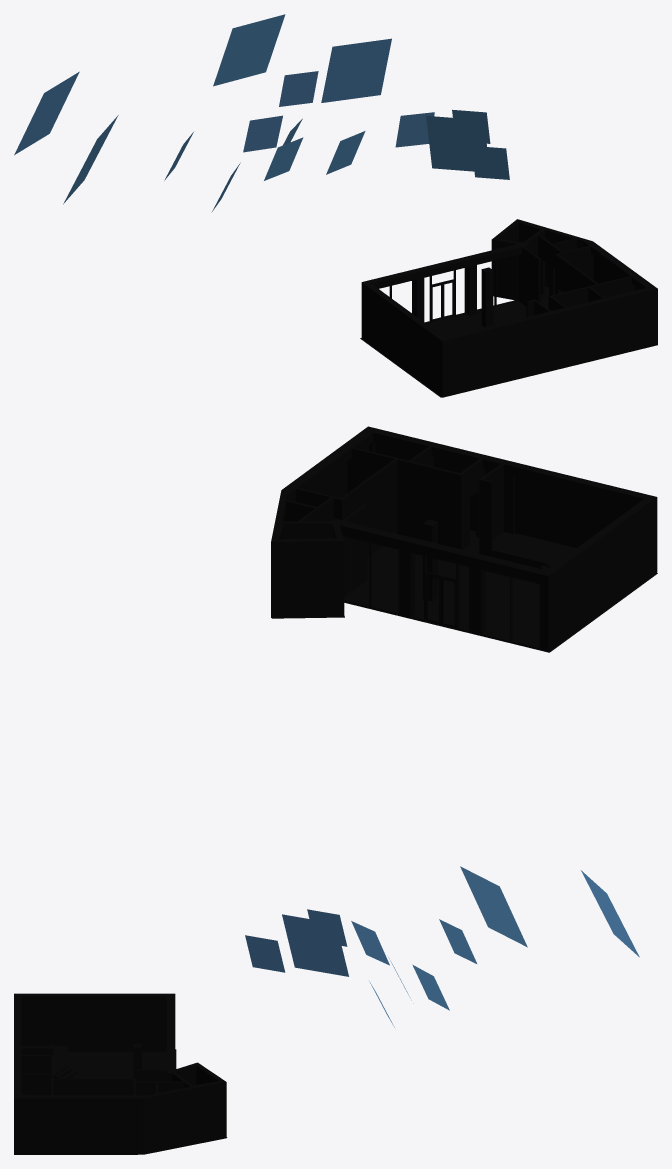
File: gallery-room.glb
3 renders of one model, top to bottom at view 1: azimuth 30°, elevation 25°; view 2: azimuth 150°, elevation 25°; view 3: azimuth 270°, elevation 25°, orthographic. The views are drawn at different scales.
Parts seen in each view (by area): view 1: Line029, CoronaLight163 (×11), Box035, Line031, 1 014; view 2: Line029, Box035, Line031, 1 014, Line030; view 3: Line029, CoronaLight163 (×8), Box035, Line031, Line030.
Boxes of the visible parts, <box> form: Line029: <box>361,219,657,397</box>; CoronaLight163 (×11): <box>14,14,509,204</box>; Box035: <box>522,234,634,316</box>; Line031: <box>360,286,548,397</box>; 1 014: <box>389,254,518,323</box>; Line029: <box>271,426,657,651</box>; Box035: <box>286,445,505,596</box>; Line031: <box>272,530,657,652</box>; 1 014: <box>342,535,540,649</box>; Line030: <box>479,532,576,569</box>; Line029: <box>14,993,226,1154</box>; CoronaLight163 (×8): <box>245,866,639,1010</box>; Box035: <box>19,1044,184,1096</box>; Line031: <box>68,1049,227,1137</box>; Line030: <box>21,1046,76,1078</box>.
Size of the model in its own units: 25.31 by 8.23 by 38.45.
